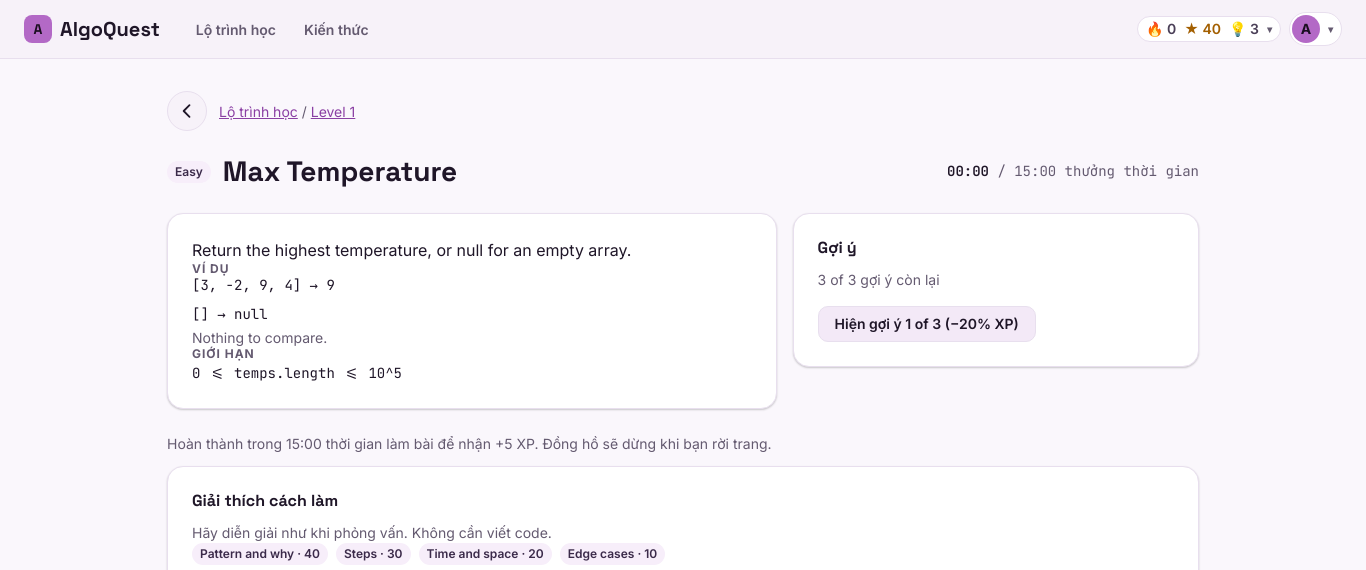
hints › requests translated hints but uses the same quota and hint endpoint
The image size is (1366, 570).
Check: the text "3 of 3 gợi ý còn lại" is shown, box [818,271,940,288]
What coordinates should you click on to do the following:
click the button "Hiện gợi ý 1 of 3 (−20% XP)"
I would click on:
 (927, 324)
Its box is [818,306,1036,342].
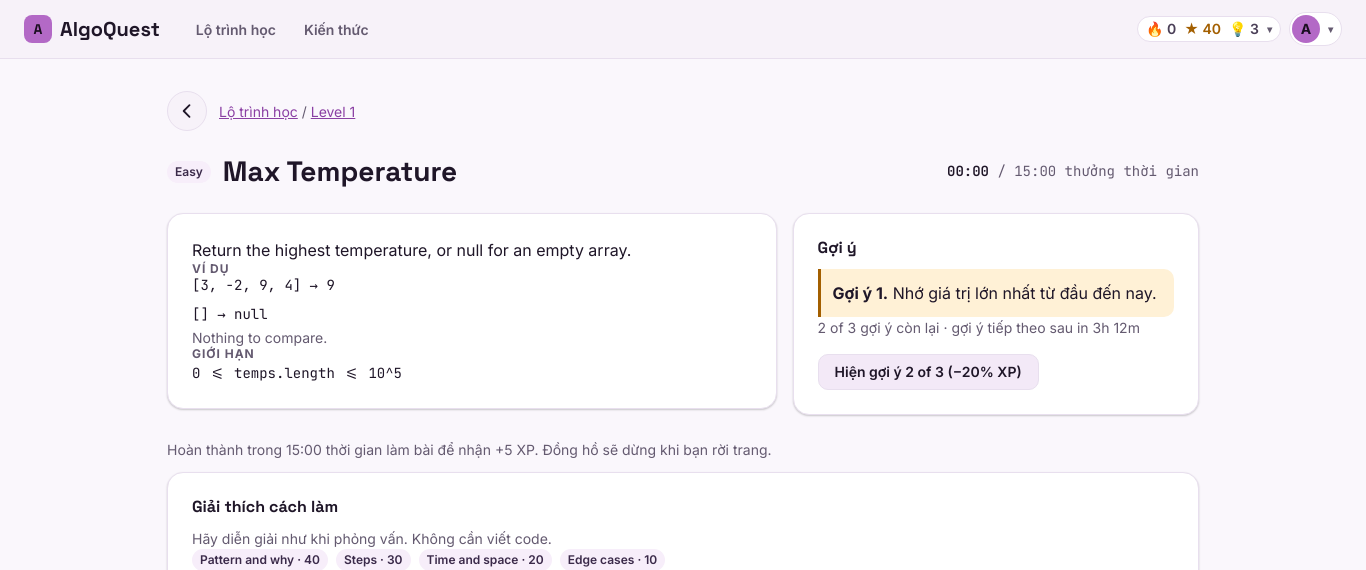
Check: the text "Nhớ giá trị lớn nhất từ đầu đến nay." is shown, box [893,283,1157,303]
Check: the text "2 of 3 gợi ý còn lại · gợi ý tiếp theo sau in 3h 12m" is shown, box [818,317,1174,338]
